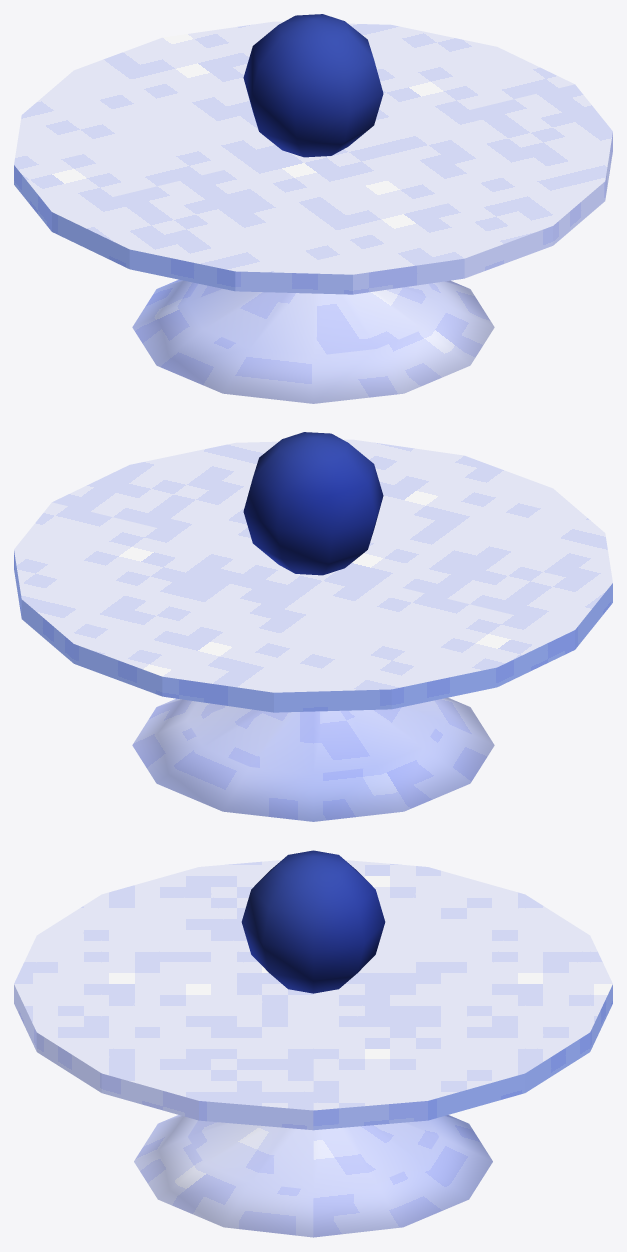
The model's file is furn.table__disc_orb.glb.
3 renders of one model, top to bottom at view 1: azimuth 30°, elevation 25°; view 2: azimuth 150°, elevation 25°; view 3: azimuth 270°, elevation 25°, orthographic.
Visible parts, largest first — view 1: kit_table_top, kit_table_base, kit_ornament; view 2: kit_table_top, kit_table_base, kit_ornament; view 3: kit_table_top, kit_table_base, kit_ornament.
Part boxes in pixels (x1,y1,x2,y2): kit_table_top: (14, 21, 612, 294); kit_table_base: (132, 279, 494, 403); kit_ornament: (243, 14, 383, 157); kit_table_top: (14, 439, 612, 712); kit_table_base: (132, 697, 494, 821); kit_ornament: (243, 432, 383, 575); kit_table_top: (14, 860, 612, 1130); kit_table_base: (134, 1115, 492, 1237); kit_ornament: (241, 850, 385, 993).
Bounding box in the file's own units: 1.1 × 0.6174 × 1.1.
Materials: 2 (1 with a texture image).
